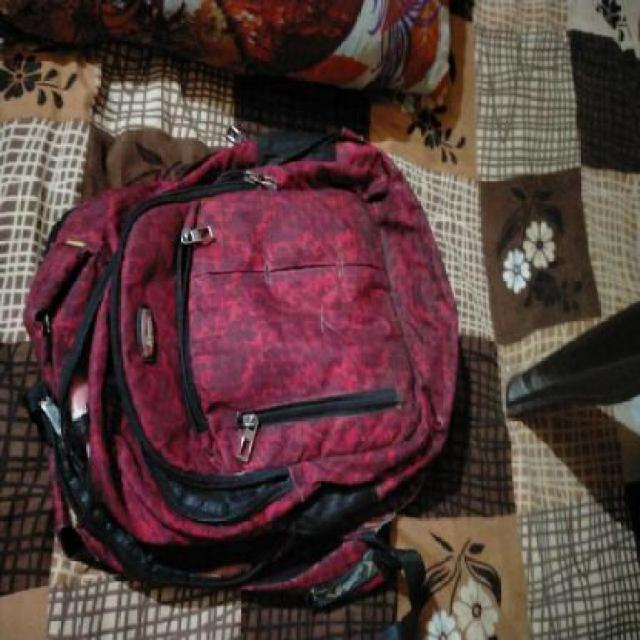backpack: (19, 120, 466, 618)
